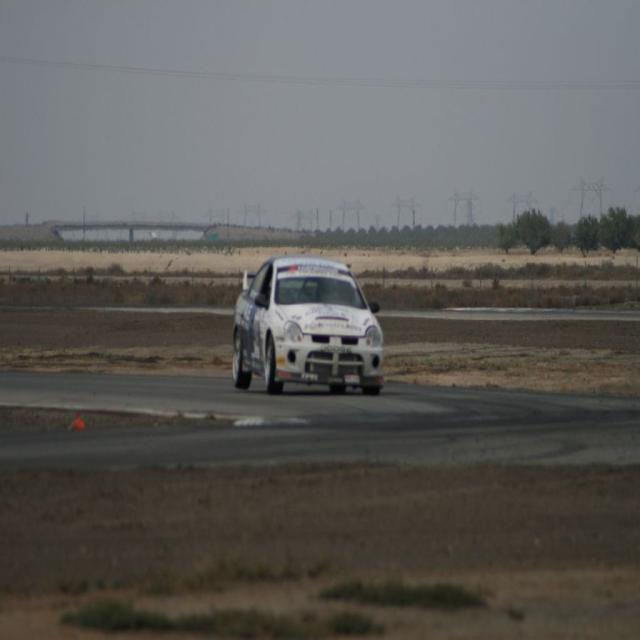car: (233, 254, 386, 392)
